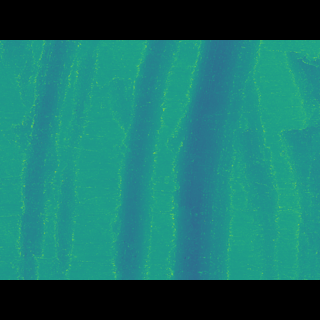Loch: (163, 68, 269, 251), (0, 70, 98, 250), (108, 69, 186, 250), (272, 77, 320, 250)
